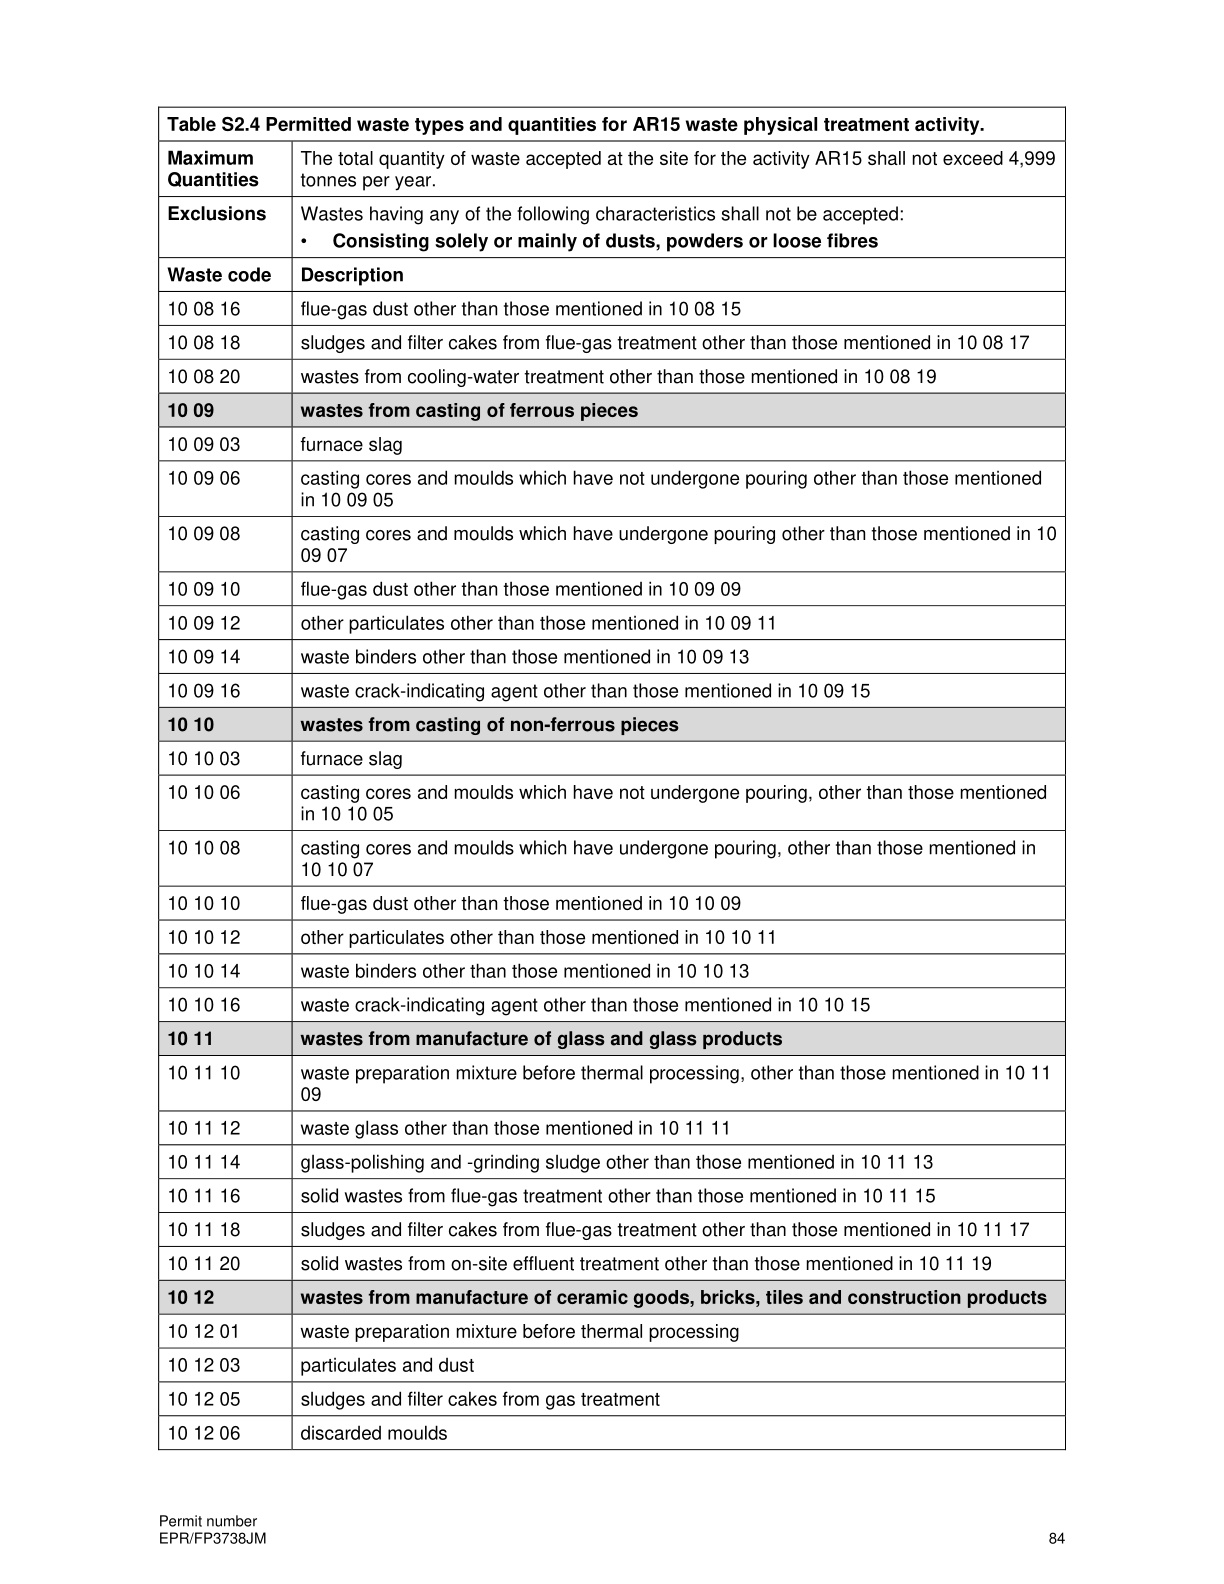merged_cells: (158, 105, 1067, 1452)
